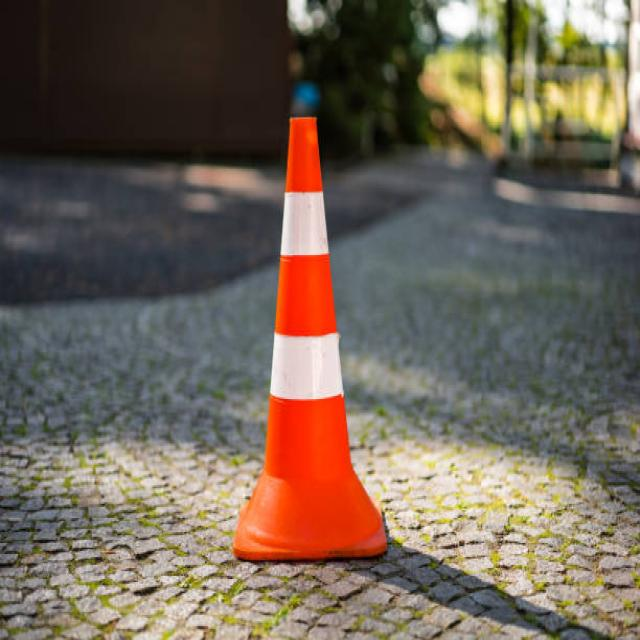Traffic Cone: (206, 73, 411, 582)
